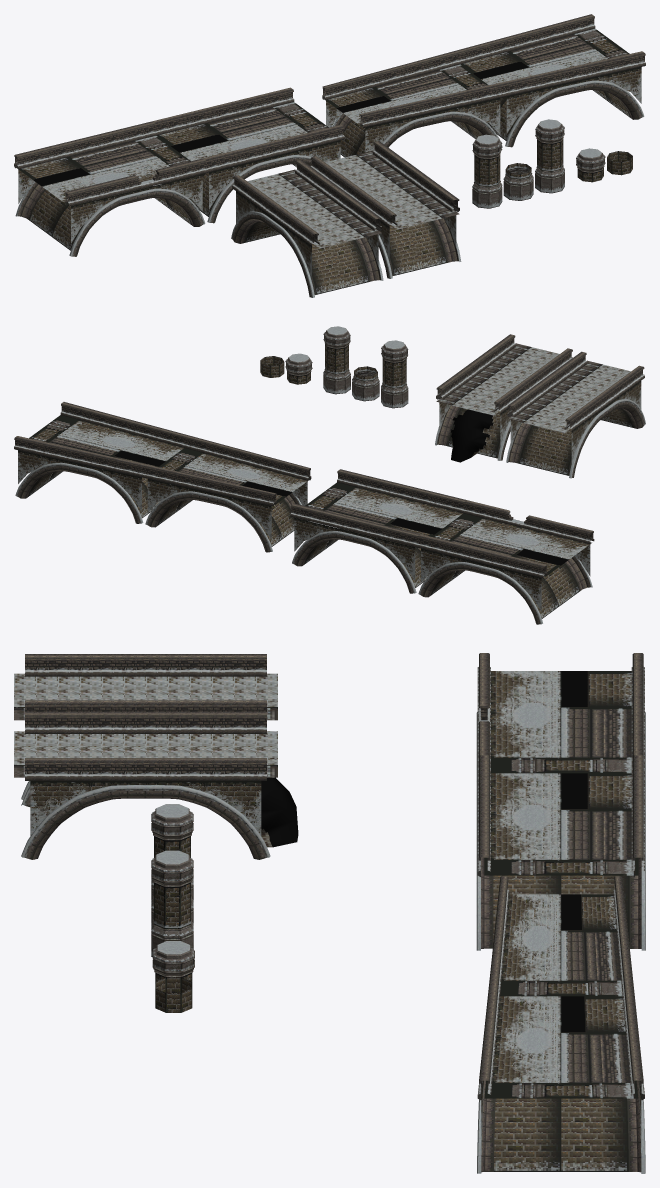
File: EnvObjMD_Bridge_Stone_Snow_A_Arch.FBX
3 renders of one model, top to bottom at view 1: azimuth 30°, elevation 25°; view 2: azimuth 150°, elevation 25°; view 3: azimuth 270°, elevation 25°, orthographic. The views are drawn at different scales.
Parts seen in each view (by area): view 1: EnvObjMD_Bridge_Stone_Snow_A_Arch_Spline_LSC_Broken, EnvObjMD_Bridge_Stone_Snow_A_Arch_Spline_LSC_Far_A, EnvObjMD_Bridge_Stone_Snow_A_Arch, EnvObjMD_Bridge_Stone_Snow_A_Arch_Enter, EnvObjMD_Bridge_Stone_Snow_A_Pillar, EnvObjMD_Bridge_Stone_Snow_A_Pillar_Start, EnvObjMD_Bridge_Stone_Snow_A_Pillar_End, EnvObjMD_Bridge_Stone_Snow_A_Pillar_Loop; view 2: EnvObjMD_Bridge_Stone_Snow_A_Arch_Spline_LSC_Broken, EnvObjMD_Bridge_Stone_Snow_A_Arch_Spline_LSC_Far_A, EnvObjMD_Bridge_Stone_Snow_A_Arch, EnvObjMD_Bridge_Stone_Snow_A_Arch_Enter, EnvObjMD_Bridge_Stone_Snow_A_Pillar, EnvObjMD_Bridge_Stone_Snow_A_Pillar_Start, EnvObjMD_Bridge_Stone_Snow_A_Pillar_End, EnvObjMD_Bridge_Stone_Snow_A_Pillar_Loop; view 3: EnvObjMD_Bridge_Stone_Snow_A_Arch_Spline_LSC_Far_A, EnvObjMD_Bridge_Stone_Snow_A_Arch_Spline_LSC_Broken, EnvObjMD_Bridge_Stone_Snow_A_Arch_Enter, EnvObjMD_Bridge_Stone_Snow_A_Arch, EnvObjMD_Bridge_Stone_Snow_A_Pillar, EnvObjMD_Bridge_Stone_Snow_A_Pillar_End, EnvObjMD_Bridge_Stone_Snow_A_Pillar_Loop.
Boxes of the visible parts, left/top/right/bottom form: EnvObjMD_Bridge_Stone_Snow_A_Arch_Spline_LSC_Broken: left=14, top=87, right=344, bottom=256; EnvObjMD_Bridge_Stone_Snow_A_Arch_Spline_LSC_Far_A: left=322, top=14, right=645, bottom=157; EnvObjMD_Bridge_Stone_Snow_A_Arch: left=231, top=160, right=383, bottom=297; EnvObjMD_Bridge_Stone_Snow_A_Arch_Enter: left=310, top=141, right=461, bottom=278; EnvObjMD_Bridge_Stone_Snow_A_Pillar: left=472, top=119, right=564, bottom=208; EnvObjMD_Bridge_Stone_Snow_A_Pillar_Start: left=503, top=163, right=533, bottom=200; EnvObjMD_Bridge_Stone_Snow_A_Pillar_End: left=576, top=148, right=605, bottom=182; EnvObjMD_Bridge_Stone_Snow_A_Pillar_Loop: left=607, top=151, right=632, bottom=175; EnvObjMD_Bridge_Stone_Snow_A_Arch_Spline_LSC_Broken: left=290, top=469, right=594, bottom=624; EnvObjMD_Bridge_Stone_Snow_A_Arch_Spline_LSC_Far_A: left=14, top=402, right=311, bottom=552; EnvObjMD_Bridge_Stone_Snow_A_Arch: left=506, top=351, right=645, bottom=478; EnvObjMD_Bridge_Stone_Snow_A_Arch_Enter: left=435, top=334, right=572, bottom=462; EnvObjMD_Bridge_Stone_Snow_A_Pillar: left=323, top=326, right=408, bottom=408; EnvObjMD_Bridge_Stone_Snow_A_Pillar_Start: left=352, top=366, right=379, bottom=401; EnvObjMD_Bridge_Stone_Snow_A_Pillar_End: left=285, top=353, right=312, bottom=384; EnvObjMD_Bridge_Stone_Snow_A_Pillar_Loop: left=260, top=356, right=284, bottom=377; EnvObjMD_Bridge_Stone_Snow_A_Arch_Spline_LSC_Far_A: left=477, top=876, right=645, bottom=1173; EnvObjMD_Bridge_Stone_Snow_A_Arch_Spline_LSC_Broken: left=476, top=653, right=645, bottom=950; EnvObjMD_Bridge_Stone_Snow_A_Arch_Enter: left=14, top=711, right=298, bottom=859; EnvObjMD_Bridge_Stone_Snow_A_Arch: left=14, top=654, right=277, bottom=799; EnvObjMD_Bridge_Stone_Snow_A_Pillar: left=151, top=804, right=193, bottom=956; EnvObjMD_Bridge_Stone_Snow_A_Pillar_End: left=152, top=941, right=194, bottom=981; EnvObjMD_Bridge_Stone_Snow_A_Pillar_Loop: left=155, top=977, right=192, bottom=1012.
Bounding box in the file's own units: 4601 × 887 × 2874.
Materials: 1 (1 with a texture image).
